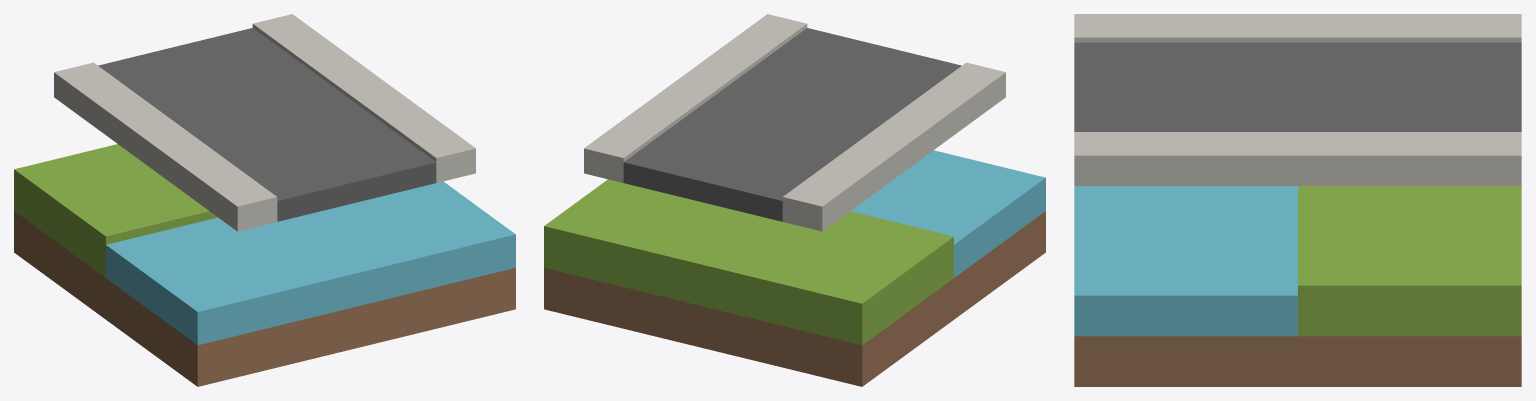
The model's file is road-bridge-coast.obj.
The picture shows the model from 3 angles, left to right: view 1: azimuth 30°, elevation 25°; view 2: azimuth 150°, elevation 25°; view 3: azimuth 270°, elevation 25°; orthographic projection. The views are drawn at different scales.
Visible parts, largest first — view 1: road-bridge-coast_Cube.024; view 2: road-bridge-coast_Cube.024; view 3: road-bridge-coast_Cube.024.
Boxes of the visible parts, left/top/right/bottom form: road-bridge-coast_Cube.024: left=14, top=14, right=515, bottom=386; road-bridge-coast_Cube.024: left=544, top=14, right=1045, bottom=386; road-bridge-coast_Cube.024: left=1074, top=14, right=1521, bottom=386.
Size of the model in its own units: 8 by 4.1 by 8.
Materials: 1 (1 with a texture image).
